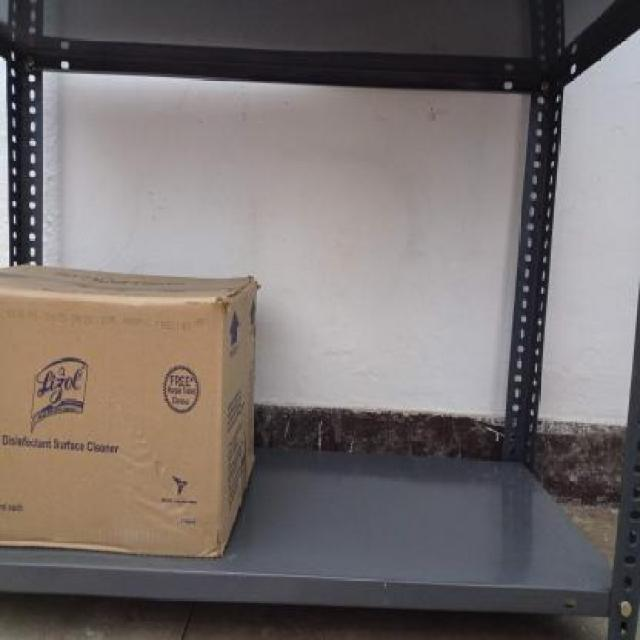box: (0, 296, 228, 544)
